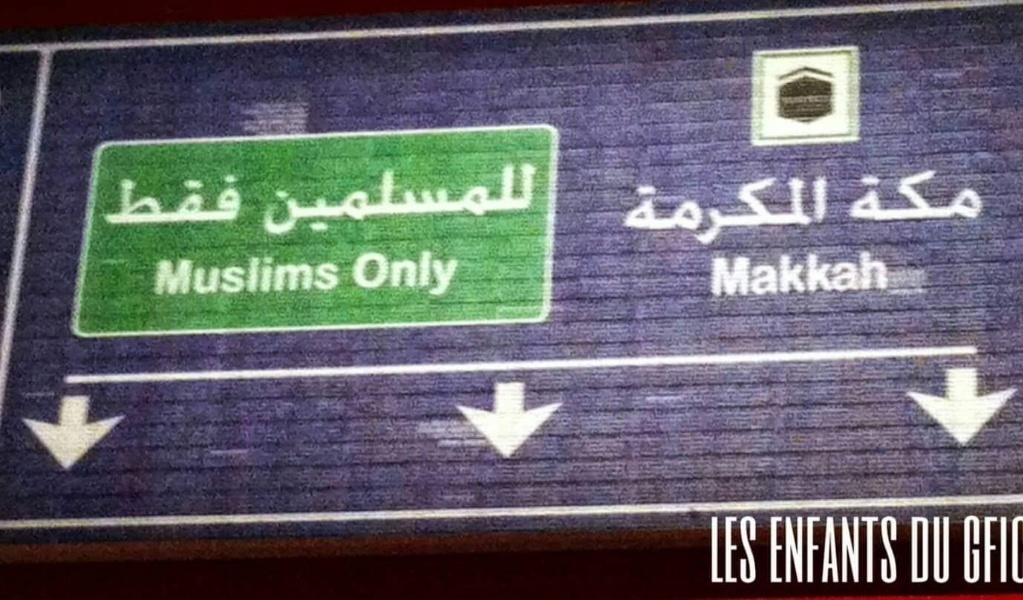text: (273, 160, 288, 237), (289, 160, 304, 237), (305, 160, 320, 237), (321, 160, 336, 237), (337, 160, 352, 237), (353, 160, 368, 237), (369, 160, 384, 237), (385, 160, 400, 237), (401, 160, 416, 237), (417, 160, 432, 237), (433, 160, 448, 237), (449, 160, 464, 237), (465, 160, 480, 237), (481, 160, 496, 237), (497, 160, 512, 237), (513, 160, 528, 237), (625, 175, 640, 246), (641, 175, 656, 246), (657, 175, 672, 246), (673, 175, 688, 246), (689, 175, 704, 246), (705, 175, 720, 246), (721, 175, 736, 246), (737, 175, 752, 246), (753, 175, 768, 246), (769, 175, 784, 246), (785, 175, 800, 246), (801, 175, 816, 246), (977, 515, 992, 583), (993, 515, 1008, 583), (721, 516, 736, 583), (737, 516, 752, 583), (913, 517, 928, 584), (929, 517, 944, 584), (785, 517, 800, 583), (801, 517, 816, 583), (817, 517, 832, 583), (833, 517, 848, 583), (849, 517, 864, 583), (865, 517, 880, 583), (881, 517, 896, 583), (1009, 515, 1023, 583), (770, 517, 784, 583), (817, 175, 830, 246), (964, 515, 976, 583), (849, 168, 864, 222), (865, 168, 880, 222), (881, 168, 896, 222), (897, 168, 912, 222), (913, 168, 928, 222), (929, 168, 944, 222), (945, 168, 960, 222), (961, 168, 976, 222), (113, 174, 128, 226), (129, 174, 144, 226), (145, 174, 160, 226), (161, 174, 176, 226), (177, 174, 192, 226), (193, 174, 208, 226), (209, 174, 224, 226), (225, 174, 240, 226), (353, 250, 368, 297), (369, 250, 384, 297), (385, 250, 400, 297), (401, 250, 416, 297), (417, 250, 432, 297), (433, 250, 448, 297), (721, 251, 736, 298), (737, 251, 752, 298), (753, 251, 768, 298), (769, 251, 784, 298), (785, 251, 800, 298), (801, 251, 816, 298), (817, 251, 832, 298), (833, 251, 848, 298), (849, 251, 864, 298), (865, 251, 880, 298), (710, 516, 720, 583), (161, 254, 176, 297), (177, 254, 192, 297), (193, 254, 208, 297), (209, 254, 224, 297), (225, 254, 240, 297), (241, 254, 256, 297), (257, 254, 272, 297), (273, 254, 288, 297), (289, 254, 304, 297), (305, 254, 320, 297), (321, 254, 336, 297), (529, 160, 536, 237), (709, 251, 720, 298), (449, 250, 459, 297), (881, 251, 891, 298), (266, 160, 272, 237), (945, 517, 951, 584), (977, 168, 984, 222), (753, 516, 757, 583), (156, 254, 160, 297), (337, 254, 341, 297), (622, 175, 624, 246), (110, 174, 112, 226), (241, 174, 243, 226), (911, 517, 912, 584), (897, 517, 898, 583)
